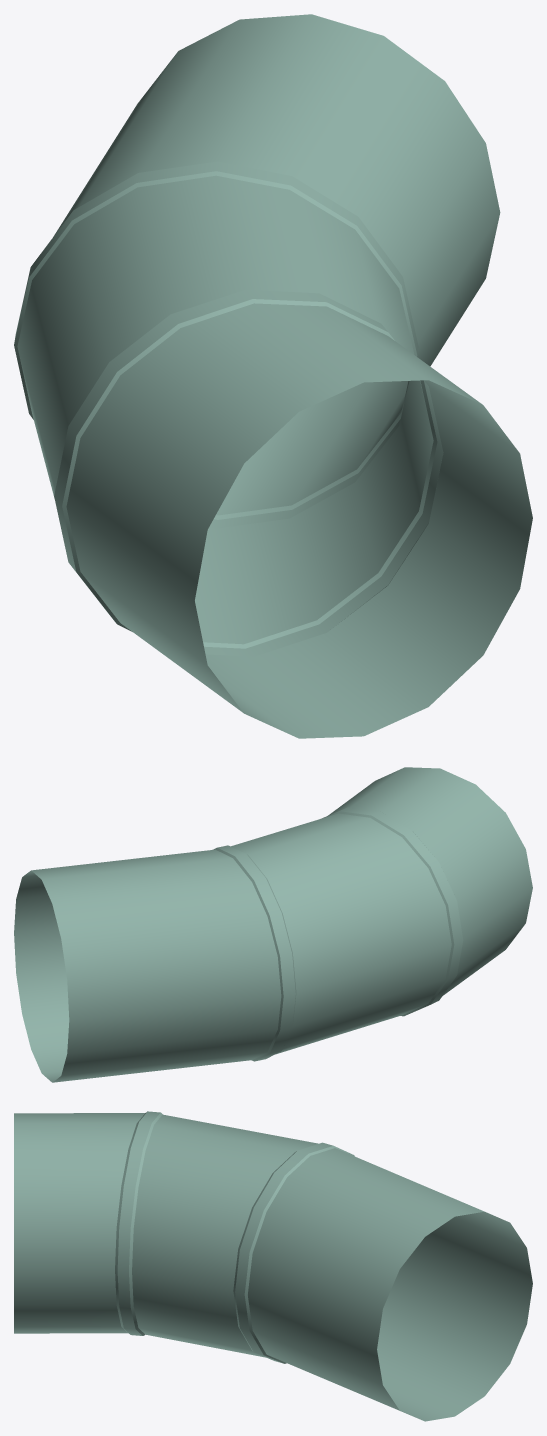
The model's file is PipeLarge_Stepped_BentDeg45_03.fbx.
3 renders of one model, top to bottom at view 1: azimuth 30°, elevation 25°; view 2: azimuth 150°, elevation 25°; view 3: azimuth 270°, elevation 25°, orthographic. The views are drawn at different scales.
Parts seen in each view (by area): view 1: PipeLarge_Stepped_BentDeg45_03.001; view 2: PipeLarge_Stepped_BentDeg45_03.001; view 3: PipeLarge_Stepped_BentDeg45_03.001.
Part boxes in pixels (x1,y1,x2,y2): PipeLarge_Stepped_BentDeg45_03.001: [14, 14, 532, 738]; PipeLarge_Stepped_BentDeg45_03.001: [14, 767, 532, 1082]; PipeLarge_Stepped_BentDeg45_03.001: [14, 1111, 532, 1421].
Bounding box in the file's own units: 0.3723 × 0.2028 × 0.4705.
